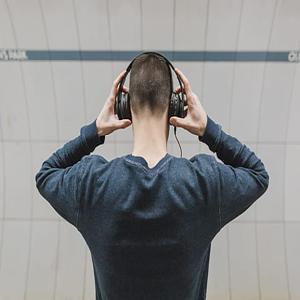Headphones: (111, 49, 188, 123)
